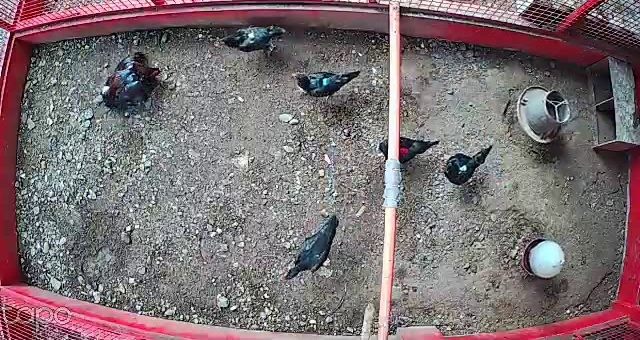Chicken: (283, 215, 345, 282), (216, 19, 288, 67), (287, 65, 360, 101), (437, 145, 496, 188), (374, 132, 440, 168)
Rooster: (96, 49, 166, 112)
Saddle_Color_Blue: (322, 78, 330, 86)
Saddle_Color_Red: (398, 147, 406, 155)
Saddle_Color_Yellow: (247, 29, 254, 42)
